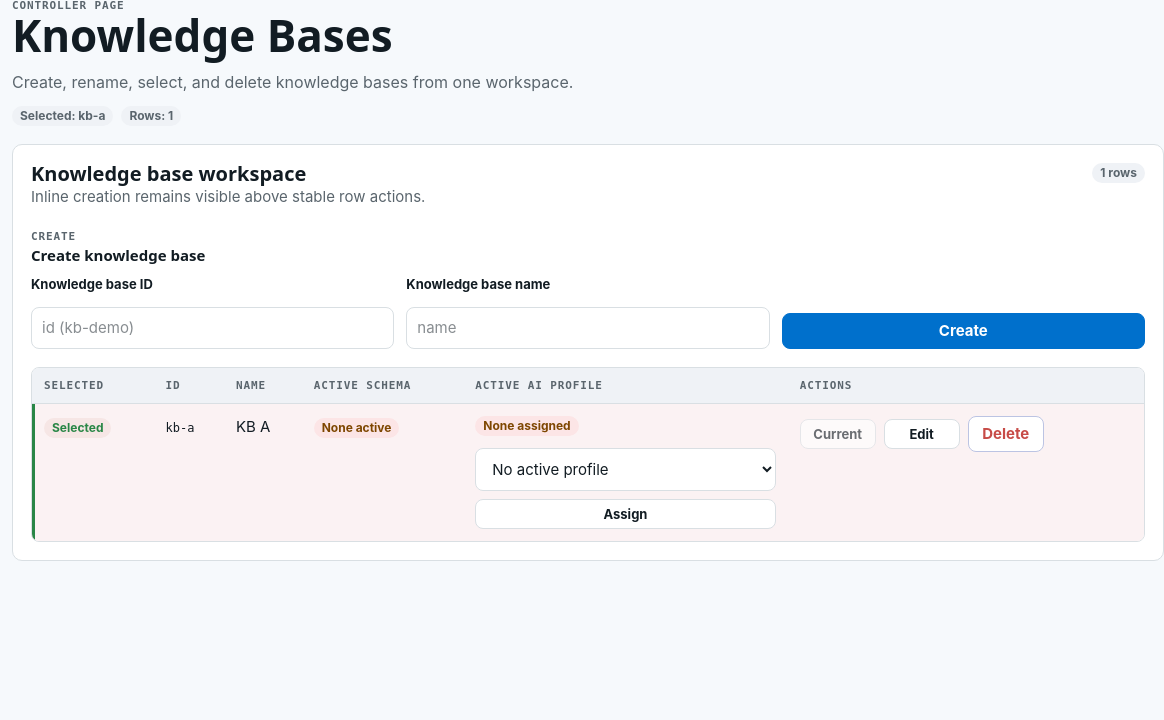
it: knowledge bases page › does not send update request when explicit rename is canceled
This screenshot has width=1164, height=720.
Click the button "Edit": (922, 434) left=884, top=420, right=960, bottom=450
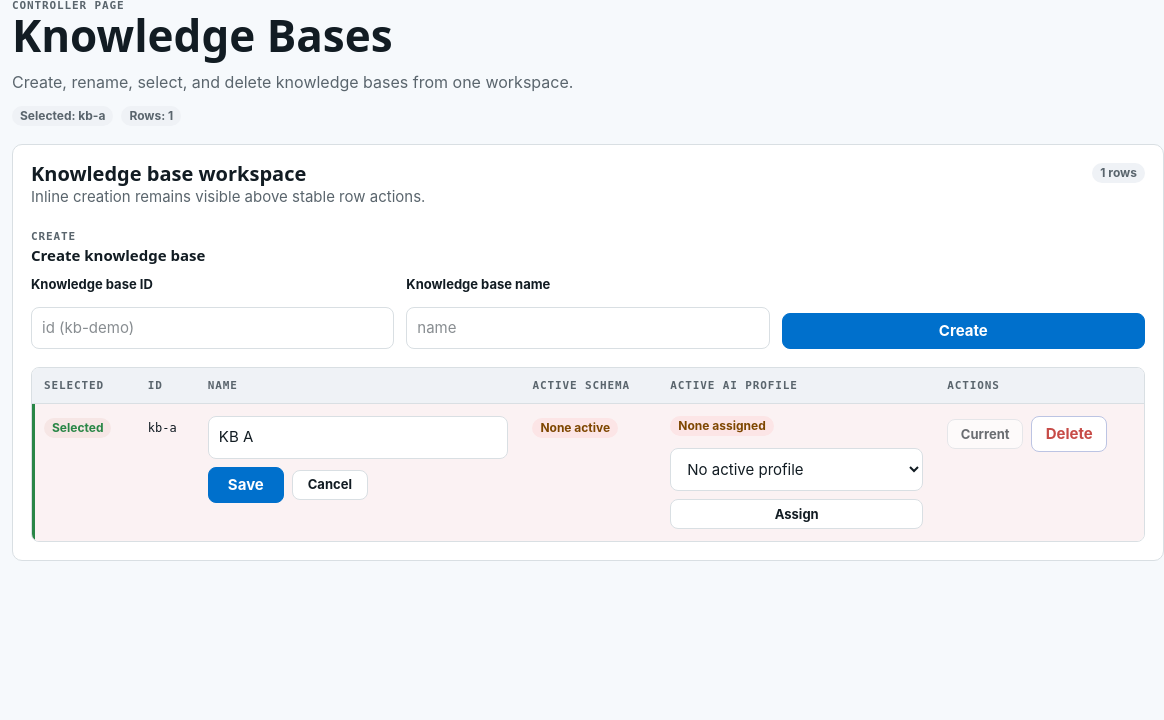
Replace the text in the field named "Rename KB A" with "Renamed KB": (358, 438) left=208, top=416, right=508, bottom=459
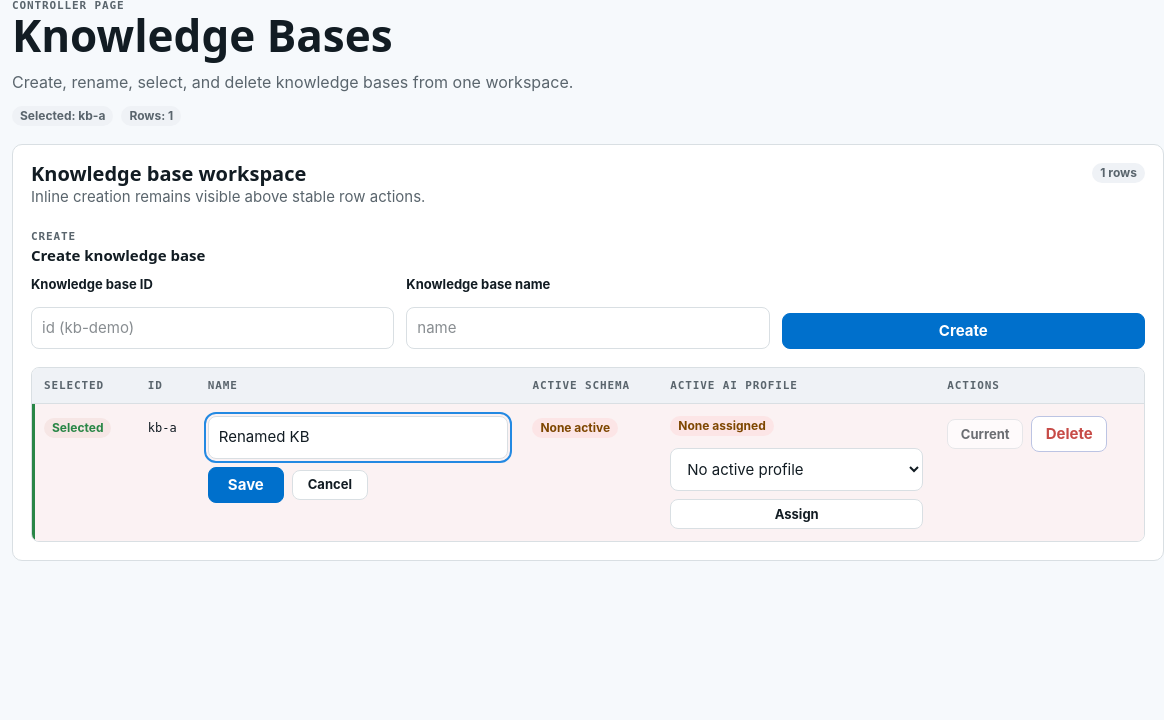
Click the button "Cancel": (330, 485) left=292, top=470, right=368, bottom=500
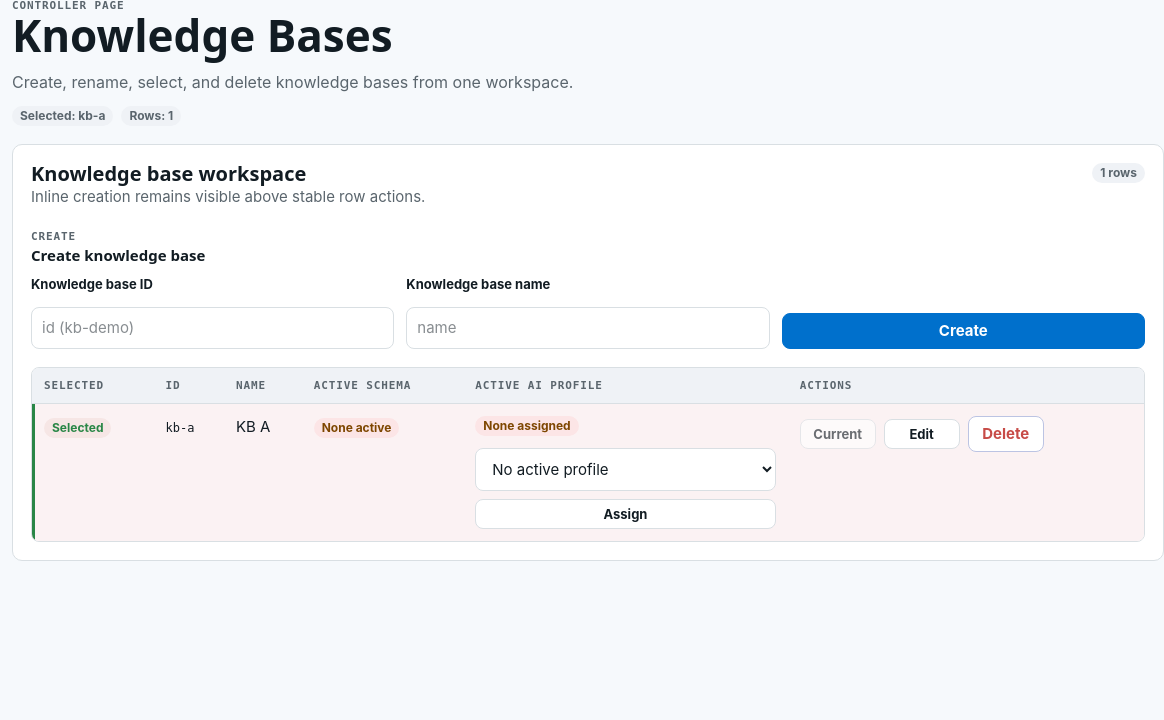
Check: the text "KB A" is shown, box left=236, top=418, right=270, bottom=436
